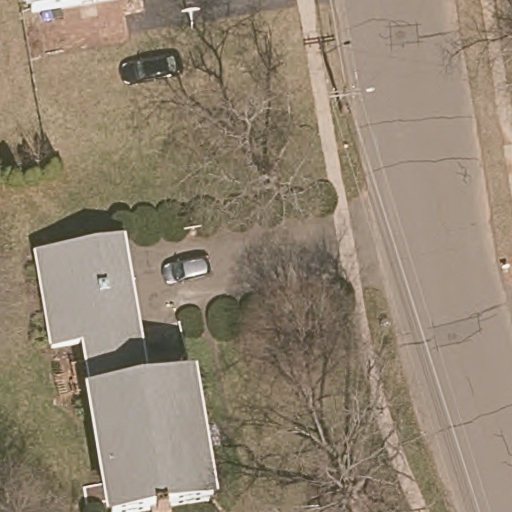DT: (329, 79, 375, 104)
